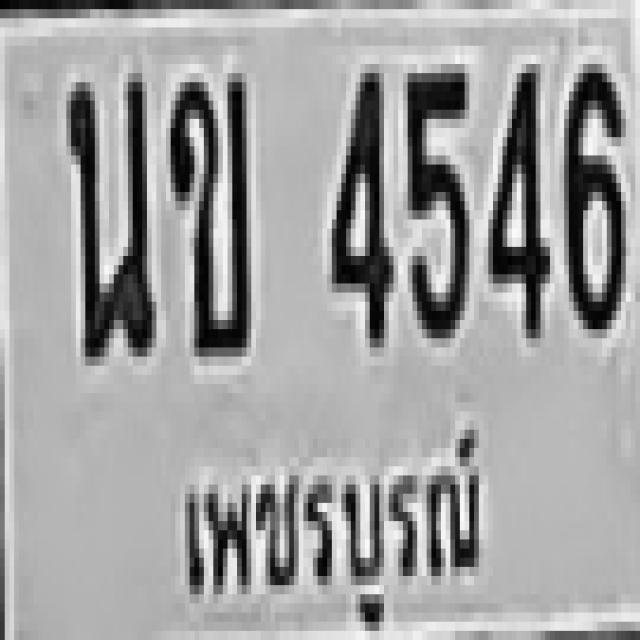11KhorKhai: (166, 64, 246, 347)
34NorNu: (64, 64, 149, 357)
4: (327, 64, 389, 338), (484, 55, 545, 329)
5: (403, 64, 465, 329)
6: (559, 55, 621, 329)
Phetchabun: (167, 426, 495, 636)
